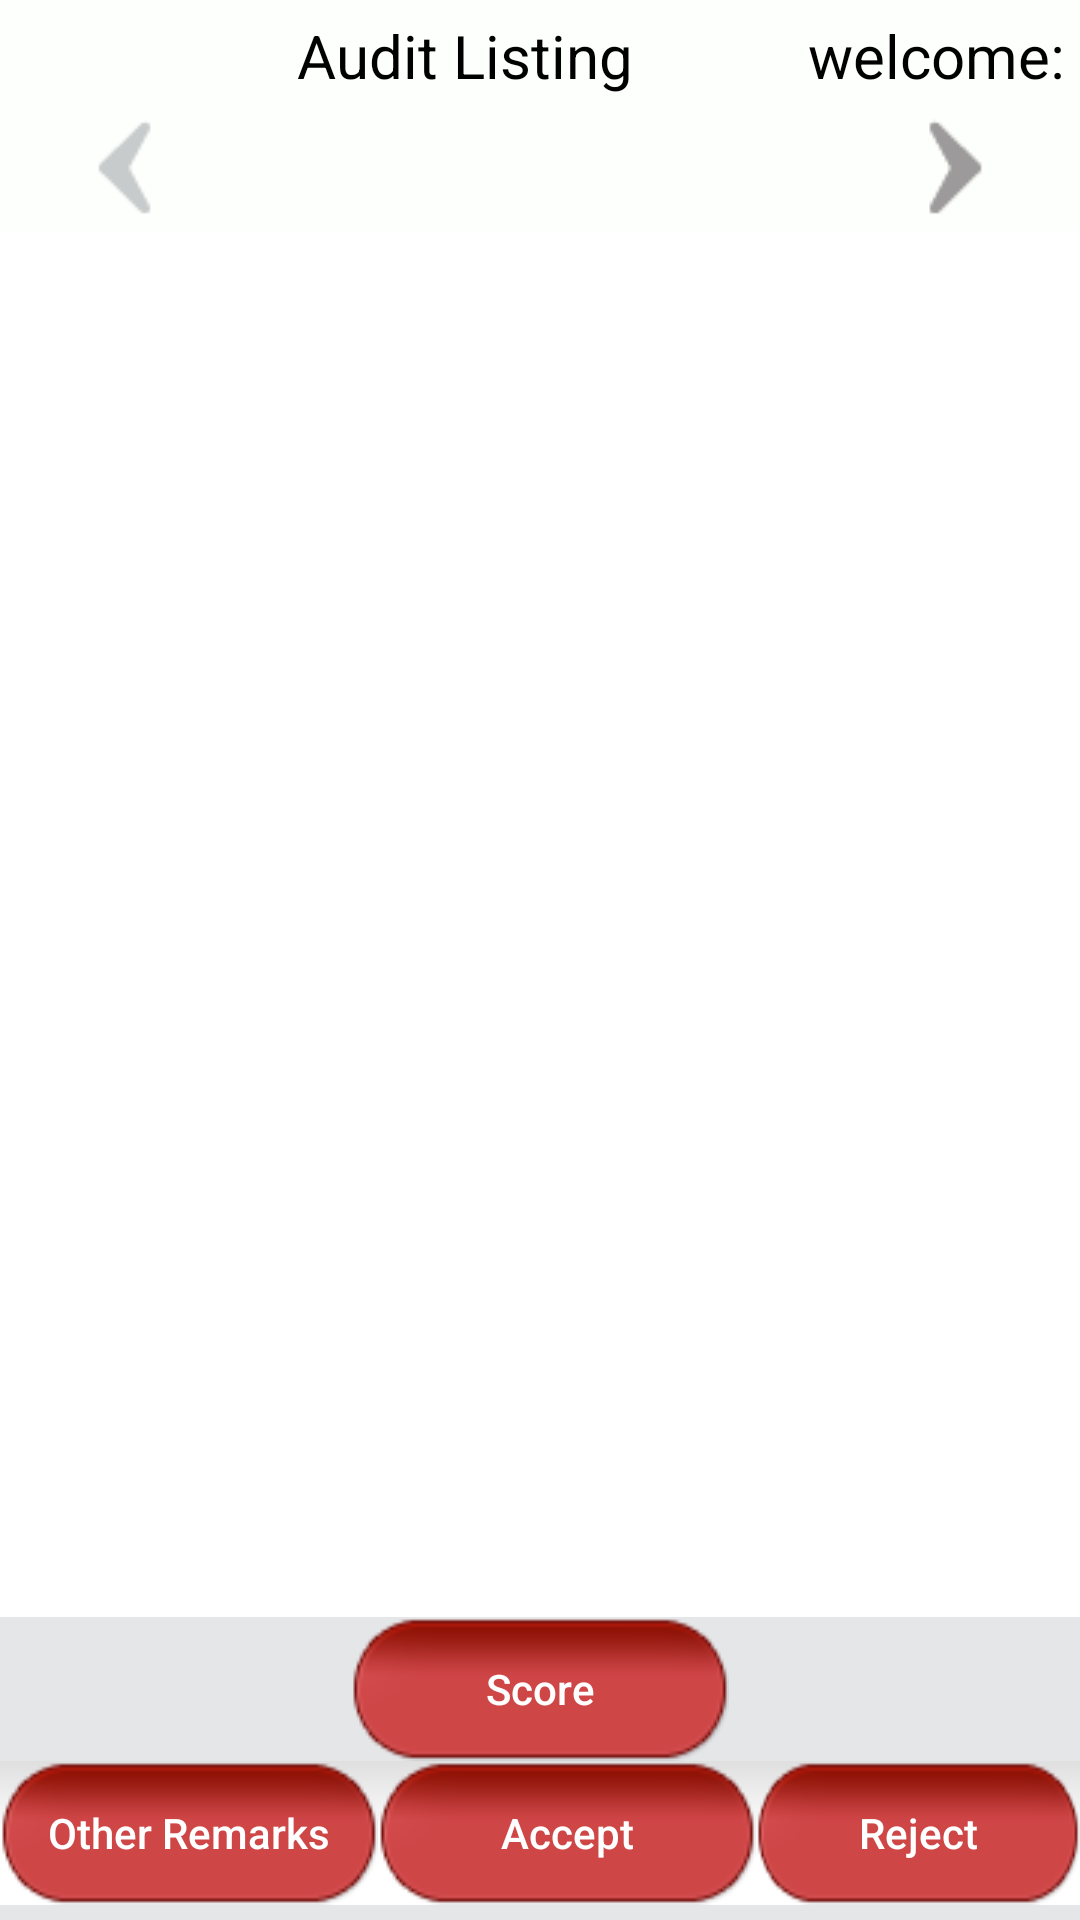

Screen size 1080*1920. Icon name, then its box in pixels as (x1, y1, x2, y2):
arrow left: (99, 123, 150, 213)
arrow right visible: (929, 122, 982, 214)
